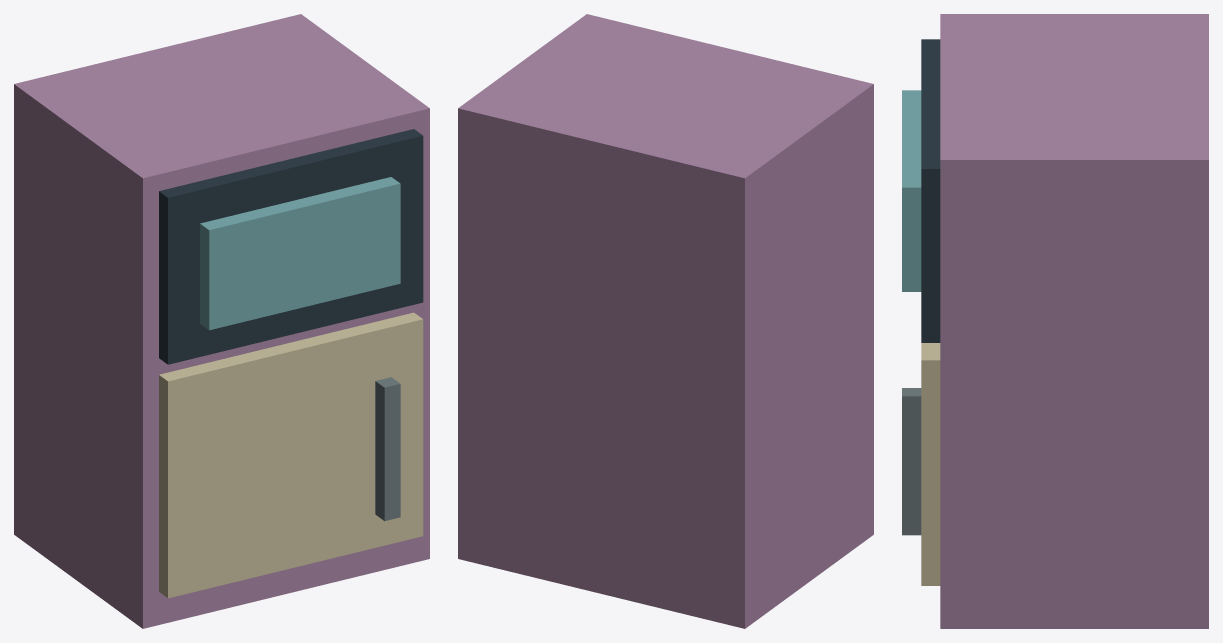
File: events-05.glb
3 renders of one model, left to right at view 1: azimuth 30°, elevation 25°; view 2: azimuth 150°, elevation 25°; view 3: azimuth 270°, elevation 25°, orthographic. The views are drawn at different scales.
Parts seen in each view (by area): view 1: Ticket booth; view 2: Ticket booth; view 3: Ticket booth.
Boxes of the visible parts, bbox=[...] form: Ticket booth: bbox=[14, 14, 429, 628]; Ticket booth: bbox=[458, 14, 873, 628]; Ticket booth: bbox=[902, 14, 1208, 628].
Size of the model in its own units: 1.44 by 2.16 by 1.28.
